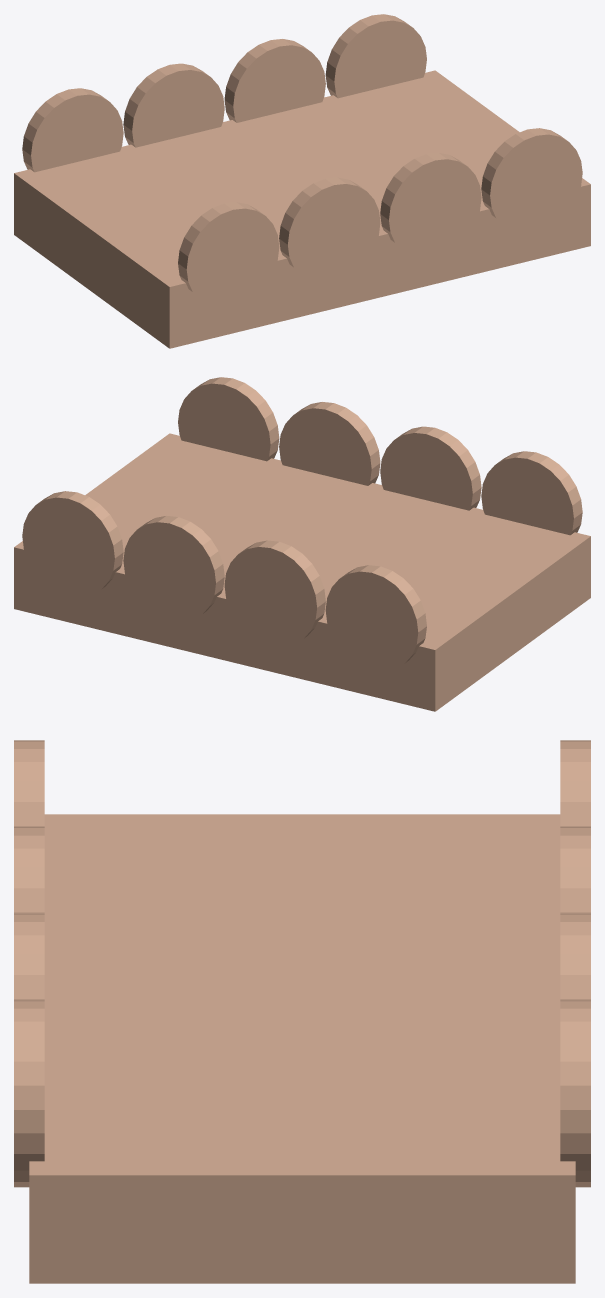
Rendered from sun_temple_s2.glb.
3 views of the same model, one above another, from view 1: azimuth 30°, elevation 25°; view 2: azimuth 150°, elevation 25°; view 3: azimuth 270°, elevation 25° (orthographic). The views are drawn at different scales.
Visible parts, largest first — view 1: Cube, Cylinder.003, Cylinder.001, Cylinder.002, Cylinder, Cylinder.004, Cylinder.005, Cylinder.006, Cylinder.007; view 2: Cube, Cylinder.007, Cylinder.005, Cylinder.006, Cylinder.004, Cylinder, Cylinder.001, Cylinder.002, Cylinder.003; view 3: Cube, Cylinder.003, Cylinder.007, Cylinder.002, Cylinder.006, Cylinder, Cylinder.001, Cylinder.004, Cylinder.005.
Part boxes in pixels (box(x1,y1,x2,y2)): Cube: box(14, 70, 590, 348); Cylinder.003: box(481, 128, 582, 233); Cylinder.001: box(279, 177, 380, 283); Cylinder.002: box(380, 152, 481, 258); Cylinder: box(178, 202, 279, 307); Cylinder.004: box(22, 88, 123, 172); Cylinder.005: box(123, 63, 224, 147); Cylinder.006: box(224, 39, 325, 122); Cylinder.007: box(325, 14, 426, 98); Cube: box(14, 433, 590, 711); Cylinder.007: box(22, 491, 123, 596); Cylinder.005: box(224, 540, 325, 646); Cylinder.006: box(123, 515, 224, 621); Cylinder.004: box(325, 565, 426, 670); Cylinder: box(481, 451, 582, 535); Cylinder.001: box(380, 426, 481, 510); Cylinder.002: box(279, 402, 380, 485); Cylinder.003: box(178, 377, 279, 461); Cube: box(29, 814, 575, 1283); Cylinder.003: box(14, 1000, 44, 1187); Cylinder.007: box(560, 1000, 590, 1187); Cylinder.002: box(14, 913, 44, 1000); Cylinder.006: box(560, 913, 590, 1000); Cylinder: box(14, 740, 44, 826); Cylinder.001: box(14, 827, 44, 913); Cylinder.004: box(560, 740, 590, 826); Cylinder.005: box(560, 827, 590, 913).
Bounding box in the file's own units: 5 × 1.45 × 3.38.
